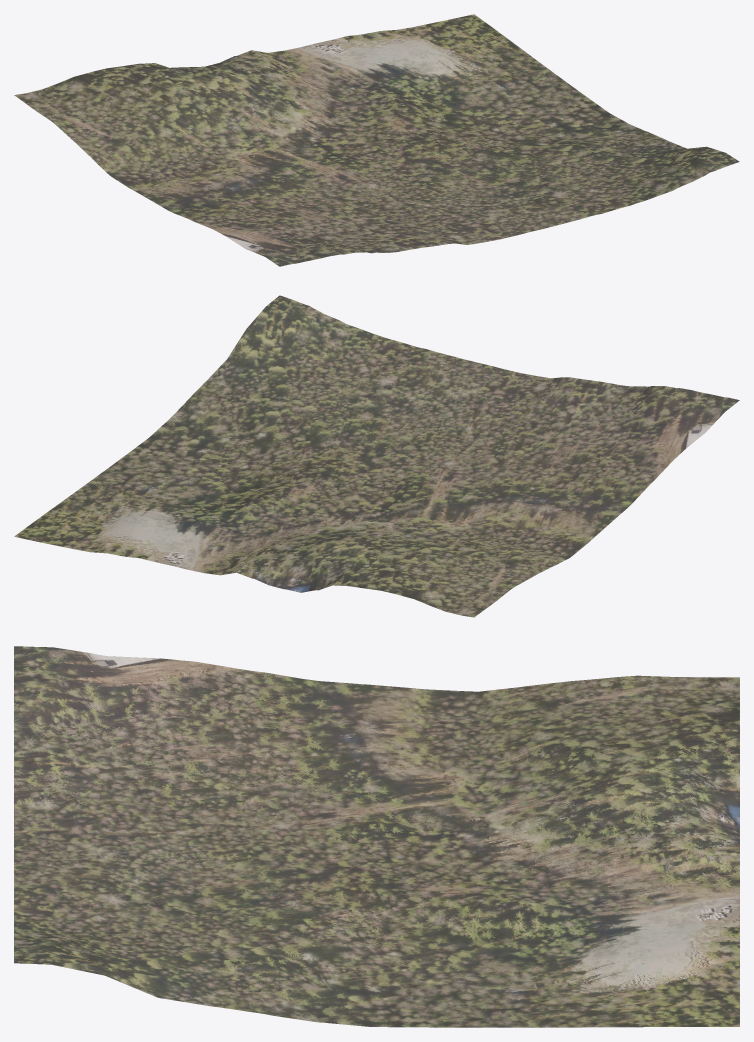
The model's file is CM_Terrain_24492916_6815288.fbx.
The picture shows the model from 3 angles, top to bottom: view 1: azimuth 30°, elevation 25°; view 2: azimuth 150°, elevation 25°; view 3: azimuth 270°, elevation 25°; orthographic projection. The views are drawn at different scales.
Parts seen in each view (by area): view 1: CM_Terrain_24492916_6815288_LOD0; view 2: CM_Terrain_24492916_6815288_LOD0; view 3: CM_Terrain_24492916_6815288_LOD0.
Part boxes in pixels (x1,y1,x2,y2): CM_Terrain_24492916_6815288_LOD0: (14,14,739,266); CM_Terrain_24492916_6815288_LOD0: (14,295,739,617); CM_Terrain_24492916_6815288_LOD0: (14,646,739,1027).
Size of what is drawn, in the model's own units: 205 by 23.31 by 205.
